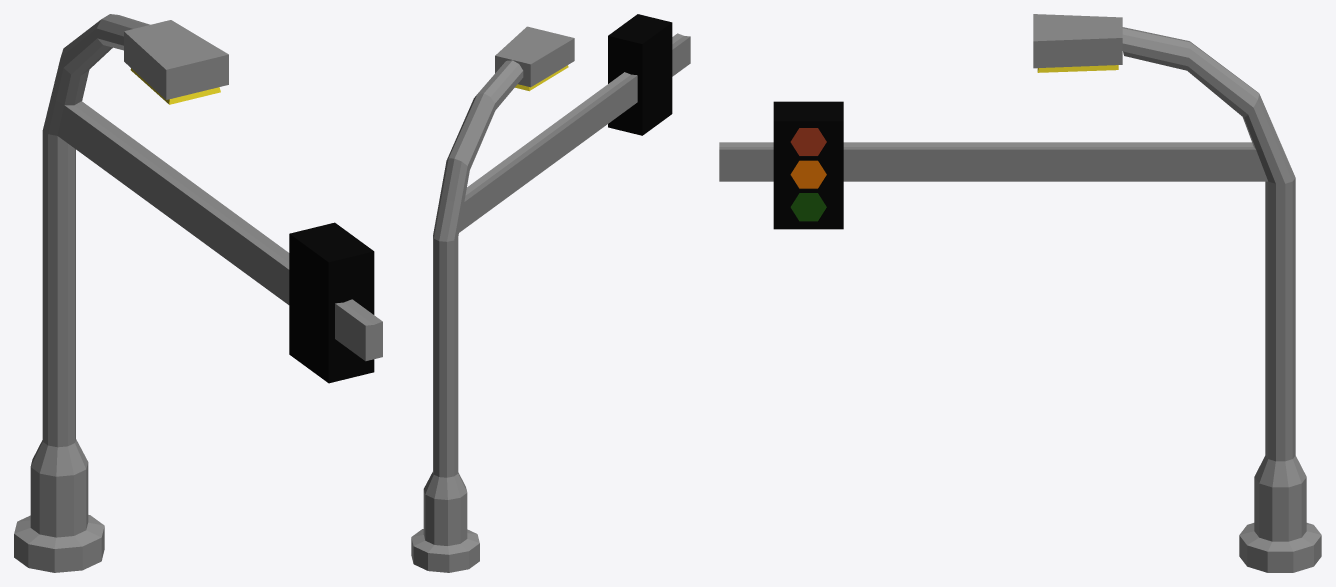
Rendered from TraficLight_01.fbx.
3 views of the same model, side by side, from view 1: azimuth 30°, elevation 25°; view 2: azimuth 150°, elevation 25°; view 3: azimuth 270°, elevation 25° (orthographic). The views are drawn at different scales.
Parts seen in each view (by area): view 1: TraficLight_01; view 2: TraficLight_01; view 3: TraficLight_01.
Part boxes in pixels (x1=…): TraficLight_01: x1=14, y1=14, x2=382, y2=572; TraficLight_01: x1=411, y1=14, x2=690, y2=572; TraficLight_01: x1=719, y1=14, x2=1321, y2=572.
Size of the model in its own units: 649 by 4824 by 4982.
